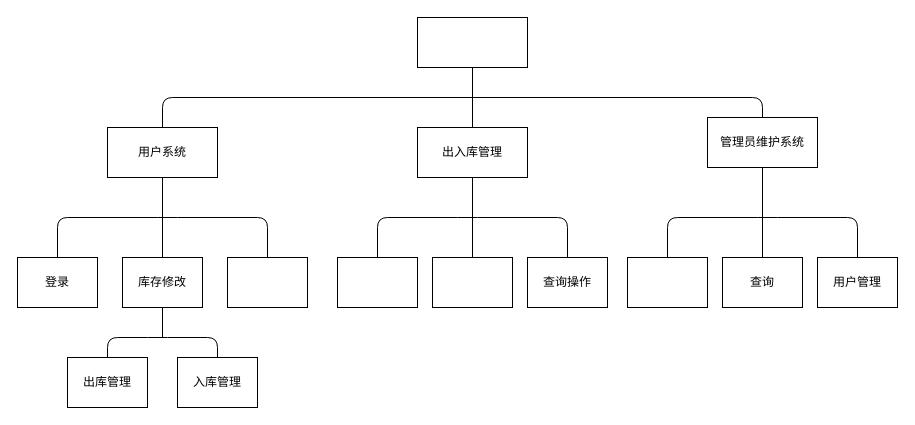
This 915x425 diagram has some shape labels left out. Each missing label, with the centre of its shape:
"个人信息修改" belongs at point 267,282.
"入库操作" belongs at point 472,282.
"出库操作" belongs at point 377,282.
"库存管理系统" belongs at point 472,42.
"身份及权限验证" belongs at point 667,282.
